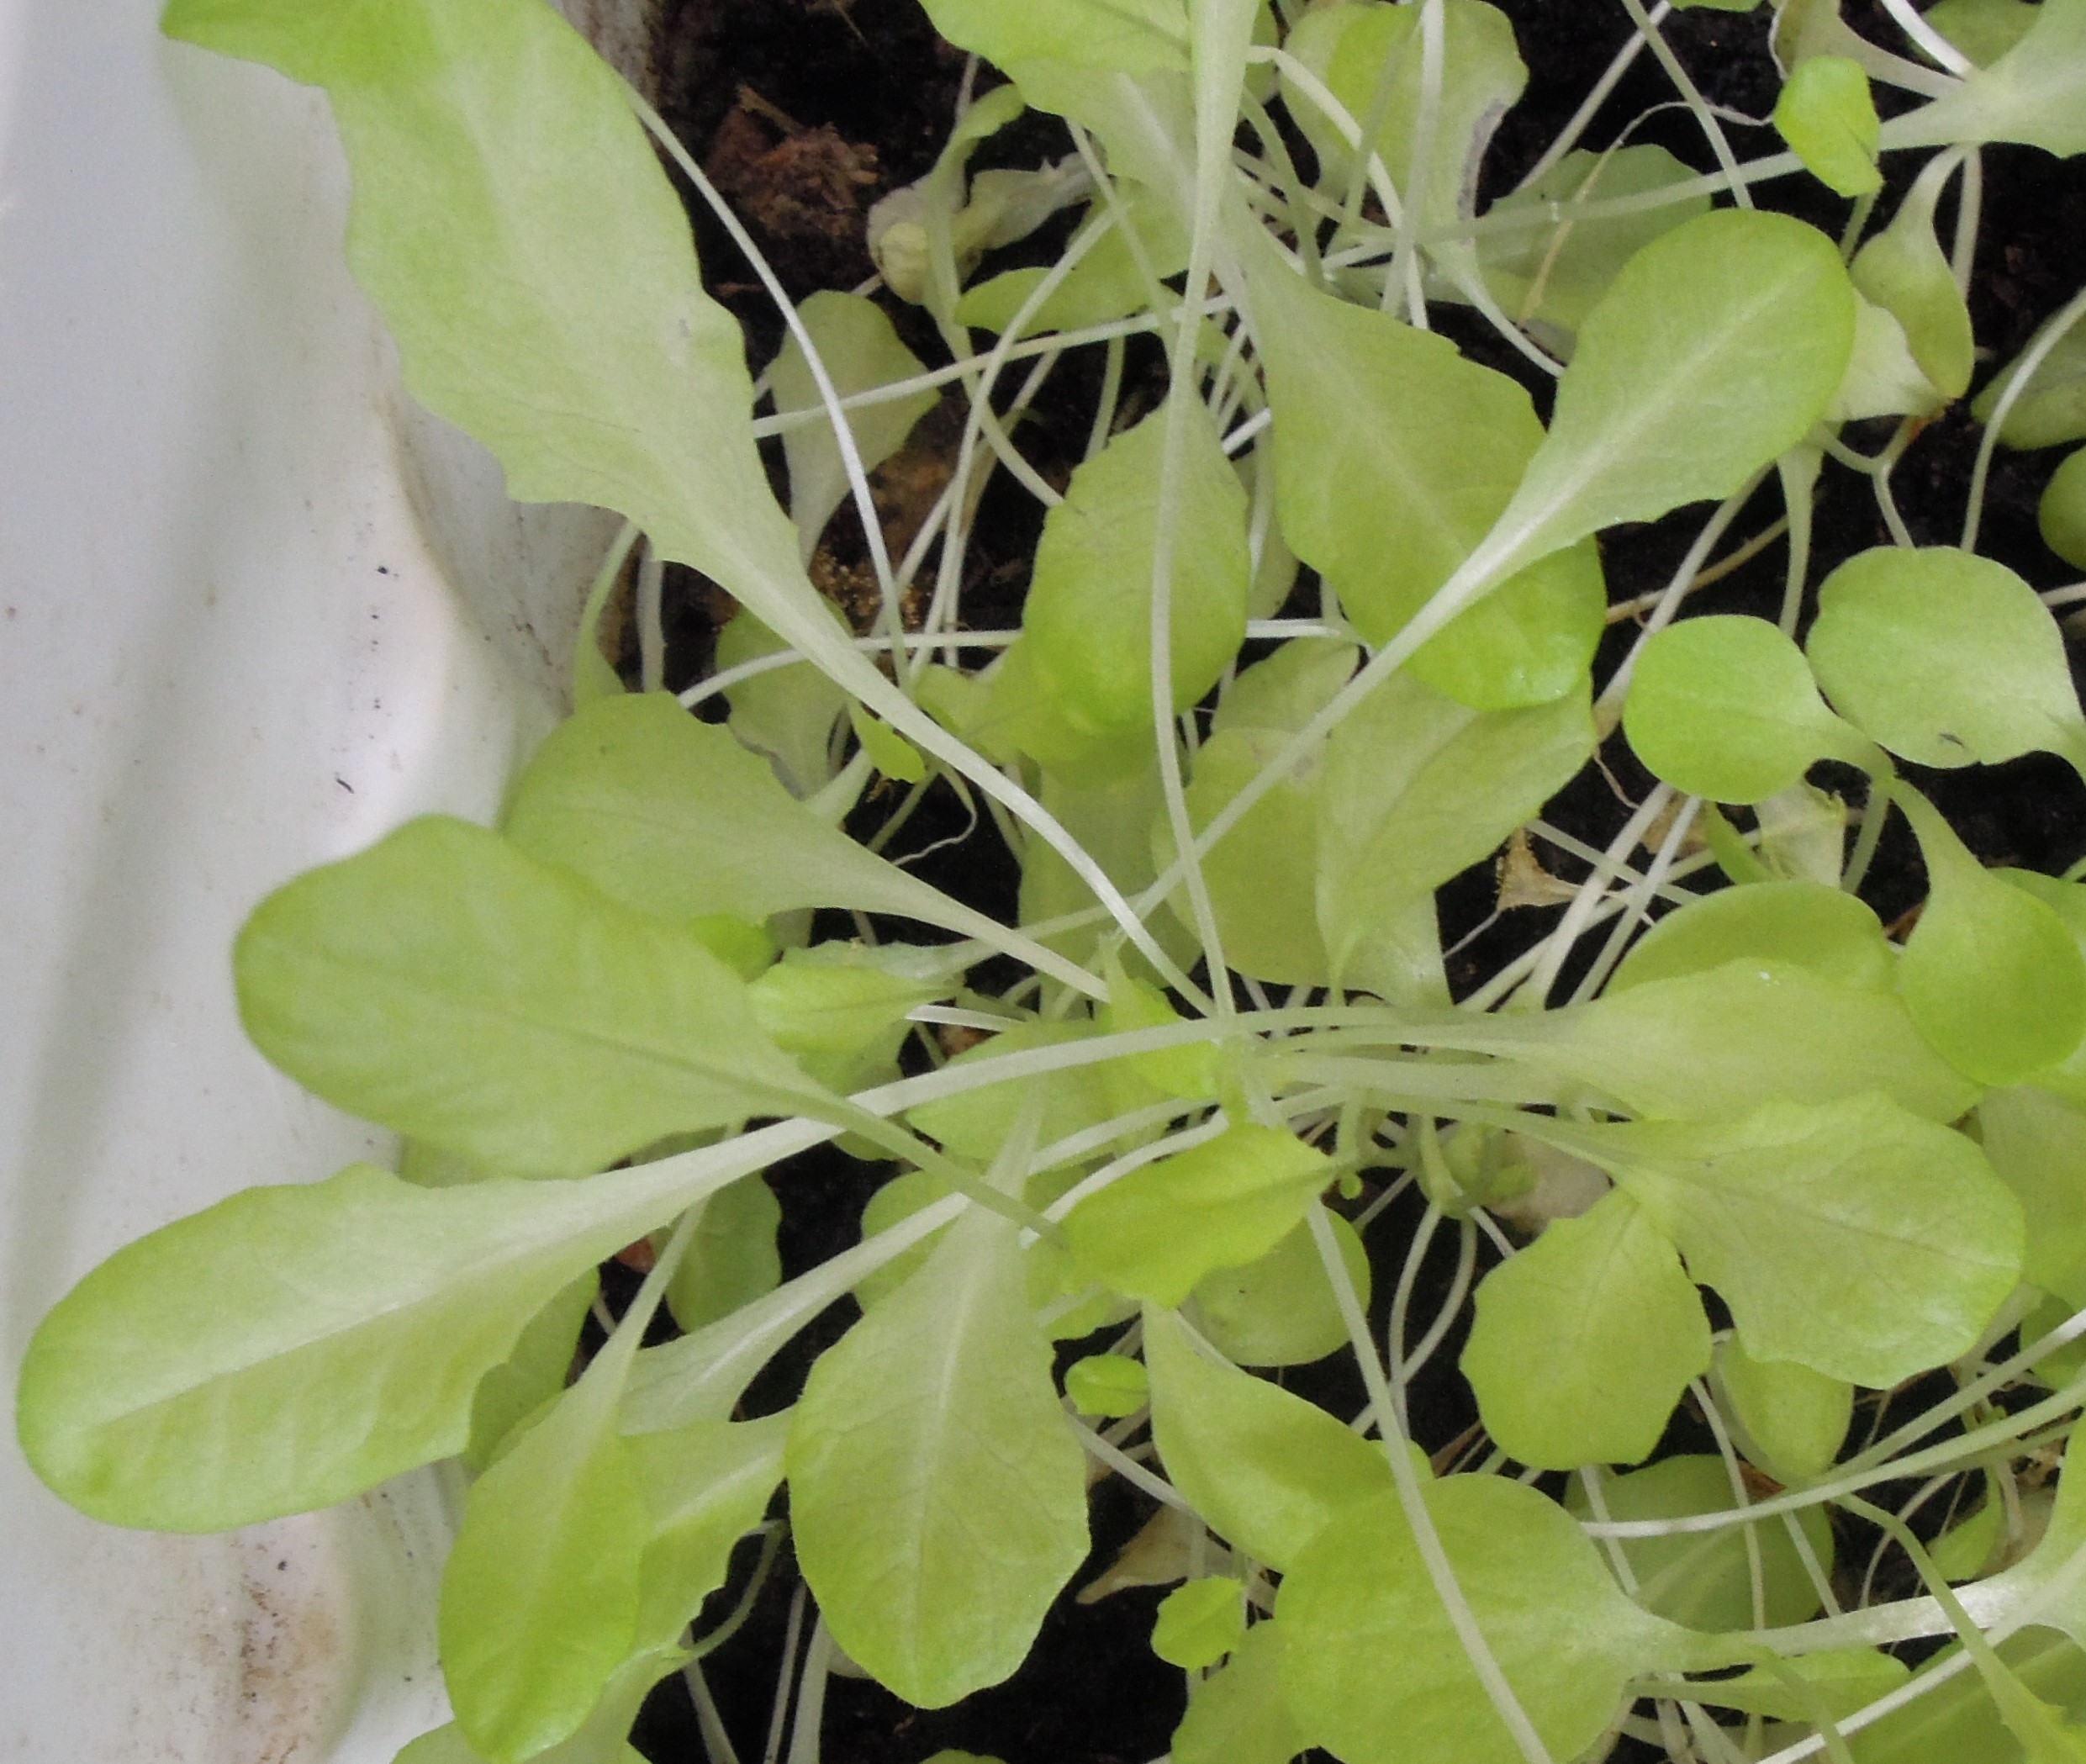weeek6: (98, 10, 2039, 1764)
